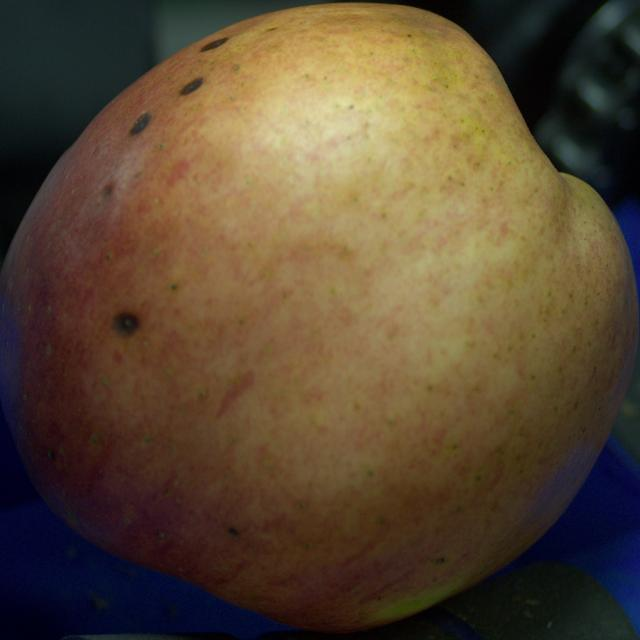apple: (0, 4, 638, 632)
pest: (113, 312, 138, 336), (130, 114, 151, 134), (180, 78, 203, 94), (202, 38, 228, 51), (103, 186, 112, 199), (229, 528, 238, 536)
